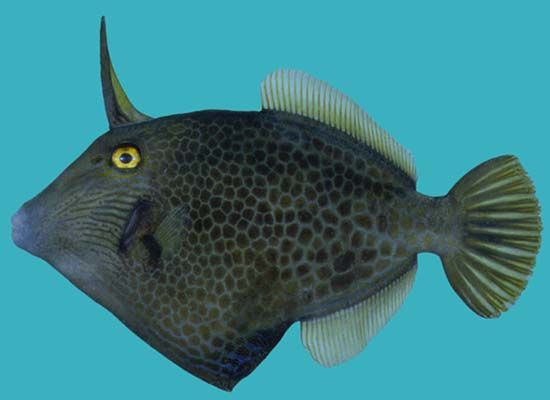fish: (11, 17, 543, 392)
